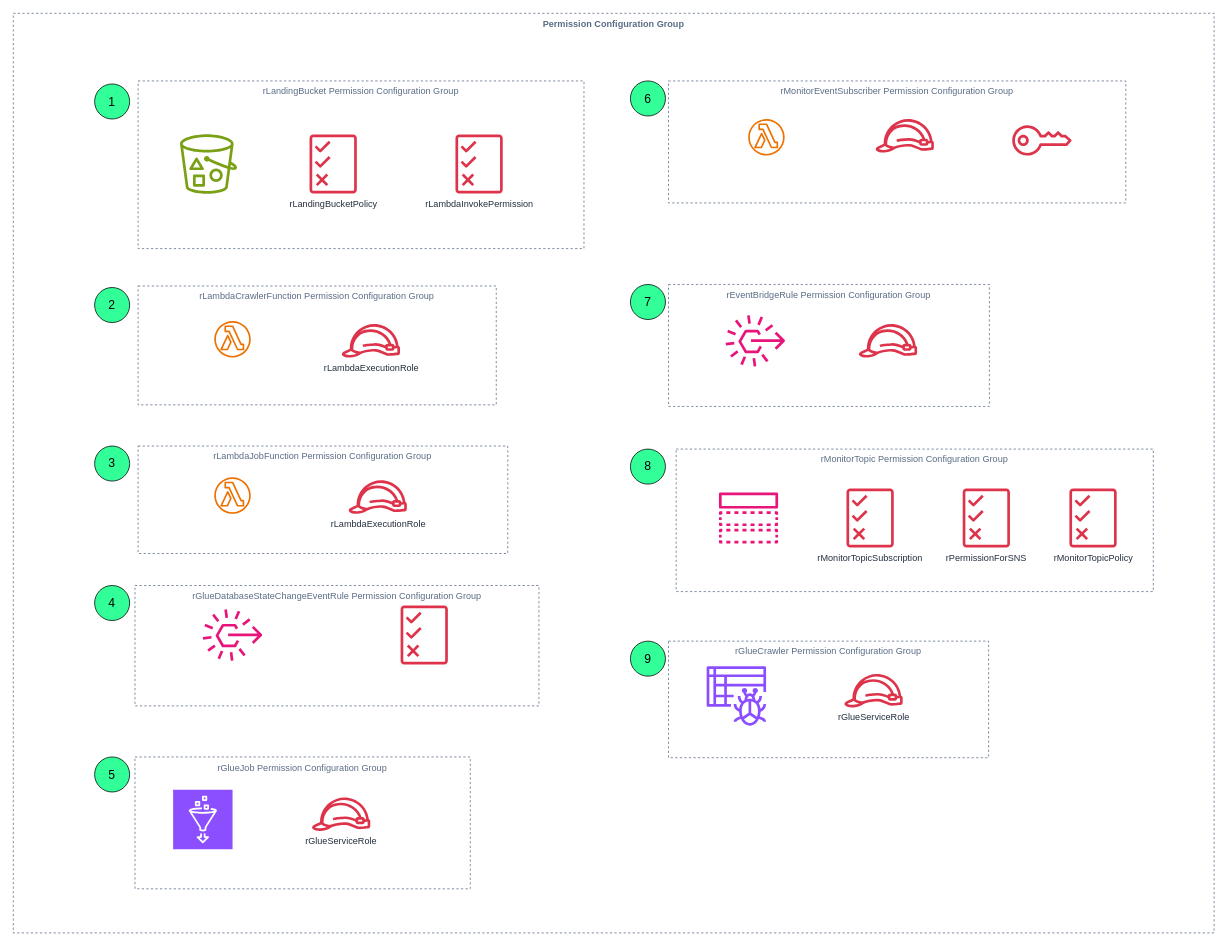
Some shapes in this 1227 by 946 pixel diagram are drawn without their labels. Here are the shapes that lost their labels. From the top down, the centre of each, then its label:
At (766,137): "rMonitorEventSubscriber".
At (904,135): "rMonitorLambdaRole".
At (1041,140): "rMonitorSecret".
At (208,163): "rLandingBucket".
At (232,339): "rLambdaCrawlerFunction".
At (755,340): "rEventBridgeRule".
At (887,340): "rEventBridgeRole".
At (232,495): "rLambdaJobFunction".
At (748,517): "rMonitorTopic".
At (232,635): "rGlueDatabaseStateChangeEventRule".
At (423,634): "LambdaJobInvokePermission".
At (736,695): "rGlueCrawler".
At (202,819): "rGlueJob".
